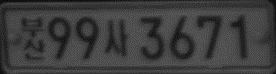1: (227, 14, 253, 59)
3: (140, 16, 164, 60)
6: (169, 15, 196, 60)
7: (196, 14, 222, 59)
9: (46, 16, 71, 59), (75, 15, 99, 59)
부산_V: (20, 15, 46, 60)
사: (104, 19, 128, 58)
